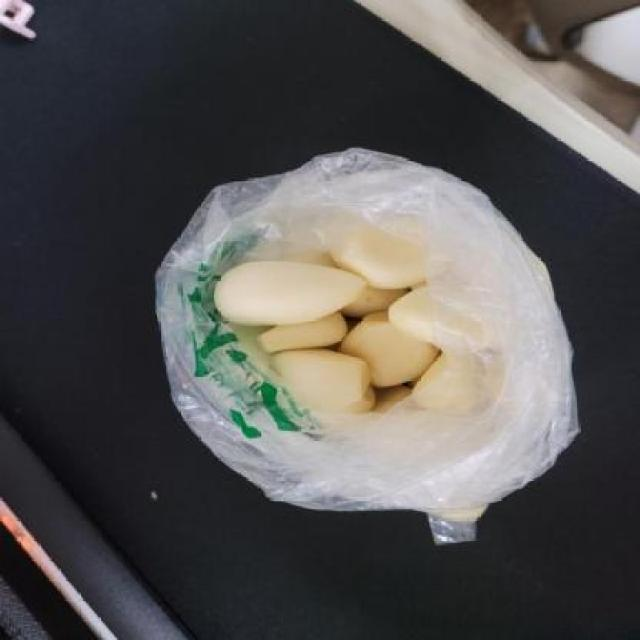garlic: (216, 215, 490, 422), (208, 256, 372, 326), (336, 310, 444, 390), (334, 225, 460, 292)
